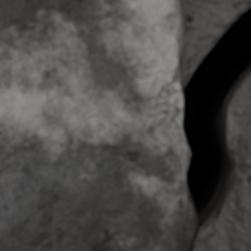brick: (0, 0, 191, 250)
crack: (181, 2, 250, 248)
